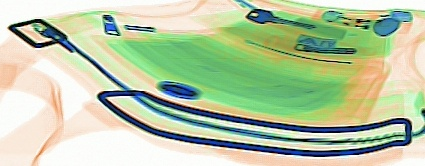lighter: (322, 9, 388, 30), (328, 8, 413, 24)
